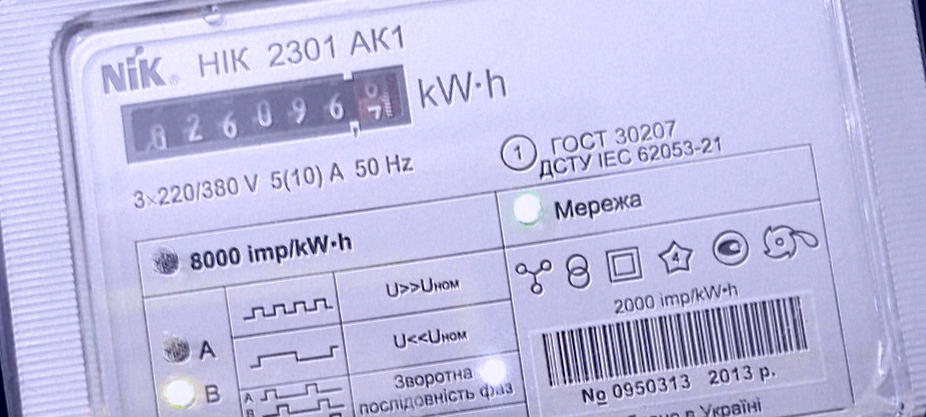0: (251, 93, 276, 131), (145, 117, 170, 151)
2: (180, 107, 206, 145)
6: (217, 104, 241, 142), (324, 86, 346, 121), (359, 71, 382, 100)
7: (364, 99, 385, 123)
9: (287, 91, 310, 126)
screen: (107, 52, 421, 176)
